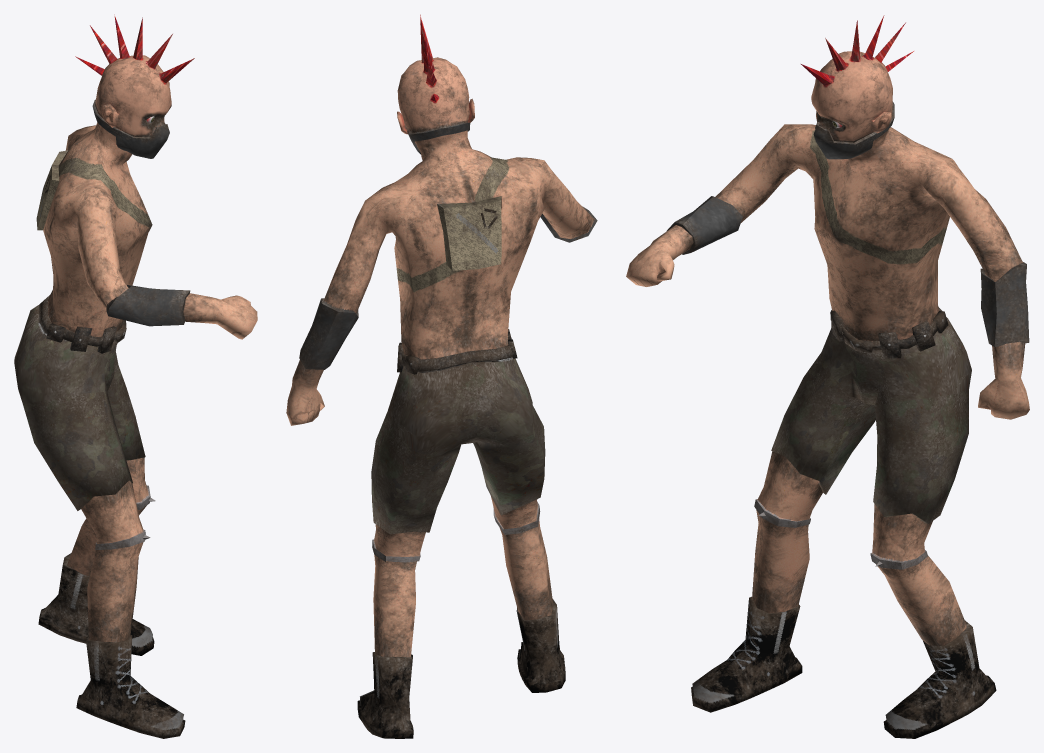
The model's file is Anim_interruptor_npc2.0030.obj.
The picture shows the model from 3 angles, left to right: view 1: azimuth 30°, elevation 25°; view 2: azimuth 150°, elevation 25°; view 3: azimuth 270°, elevation 25°; orthographic projection. The views are drawn at different scales.
Parts seen in each view (by area): view 1: polySurface1; view 2: polySurface1; view 3: polySurface1.
Part boxes in pixels (x1,y1,x2,y2): polySurface1: (14, 14, 257, 738); polySurface1: (286, 14, 597, 738); polySurface1: (626, 15, 1029, 738).
Size of the model in its own units: 2.66 by 9.87 by 5.11.
